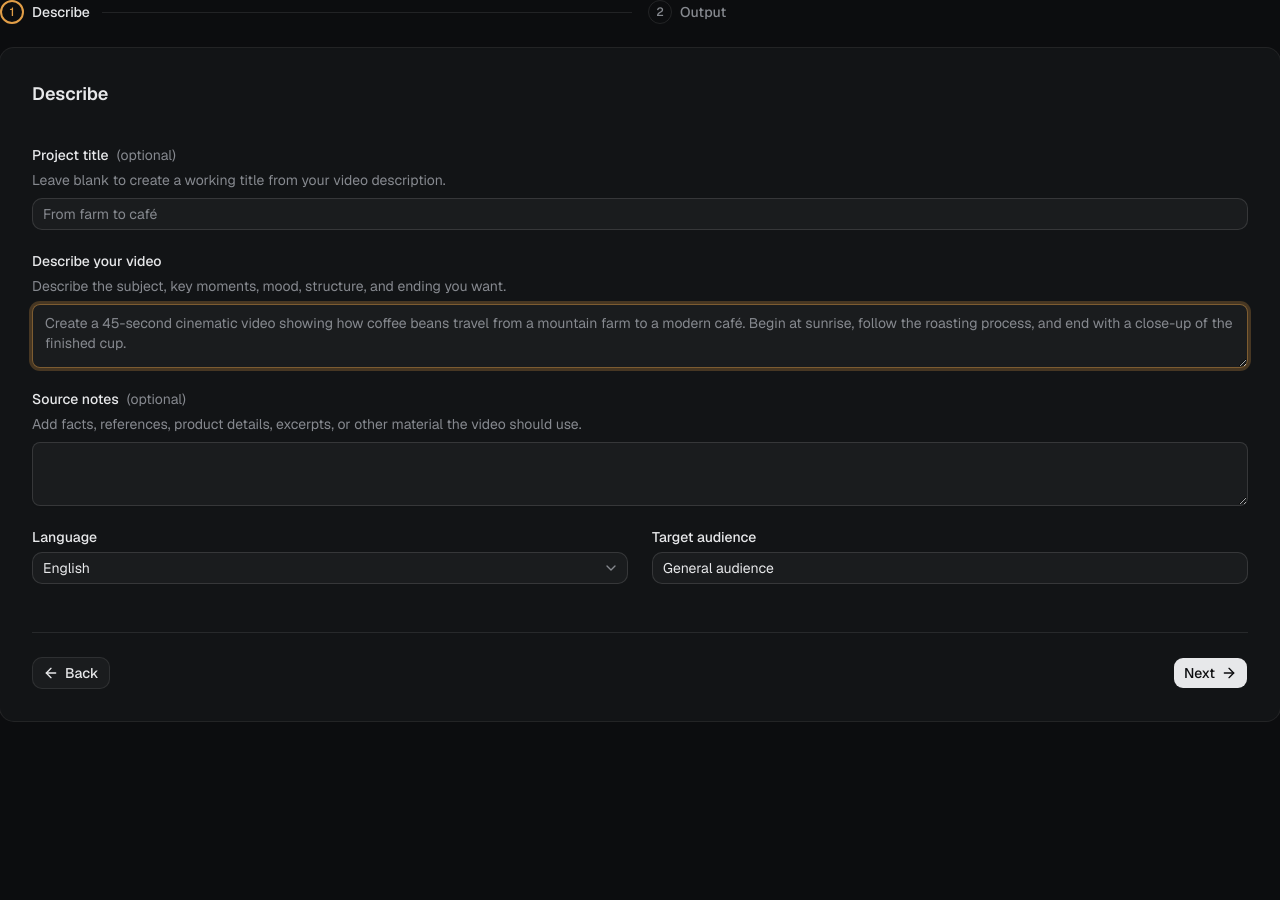
Test: CustomVideoWizard › preserves values after an API error and blocks duplicate submission
In the text box labelled "Describe your video": [640, 336] box 32,304 -> 1248,368, type "A ceramic process video"
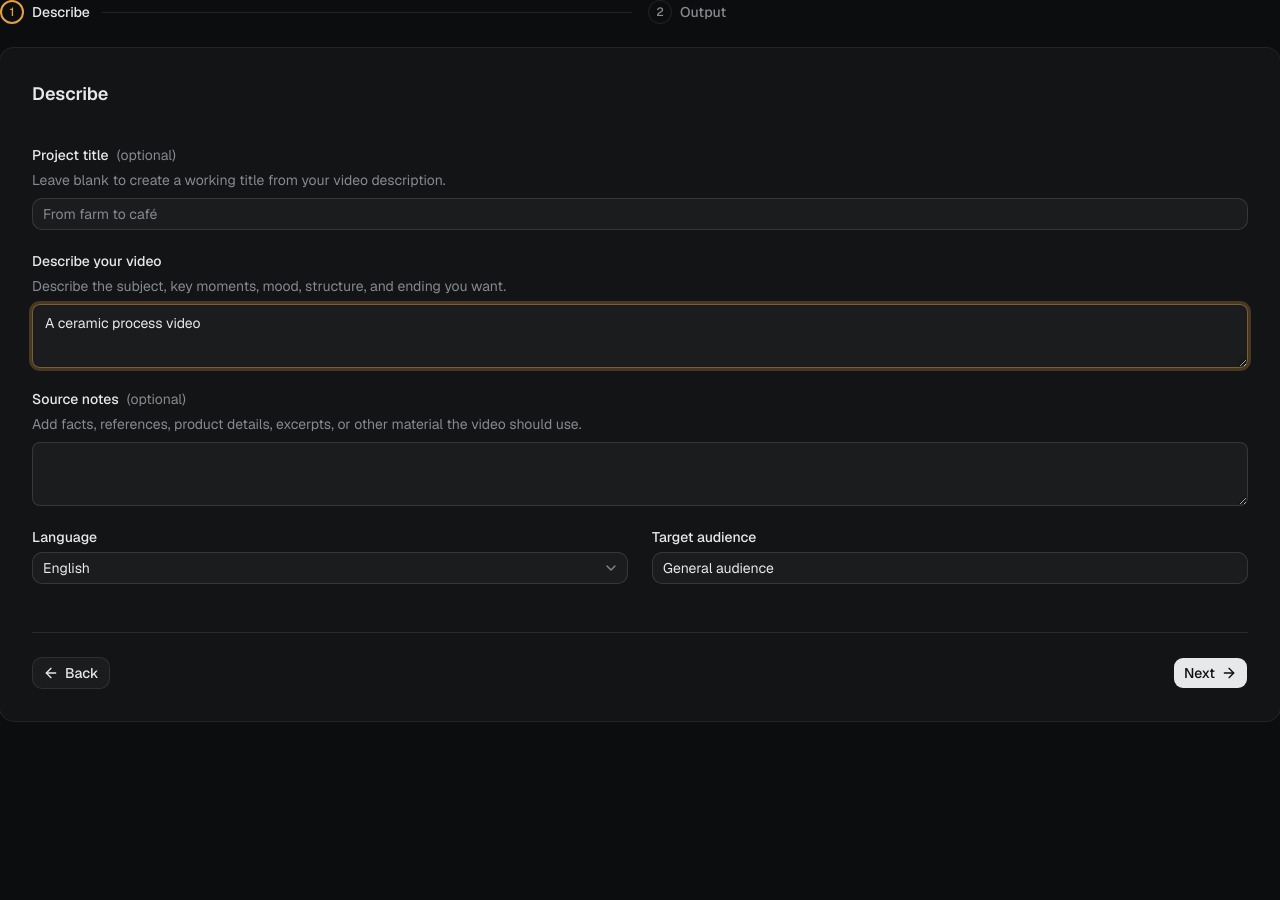
Click the button "Next": [1210, 673] box 1173,657 -> 1248,689
(page scrolled)
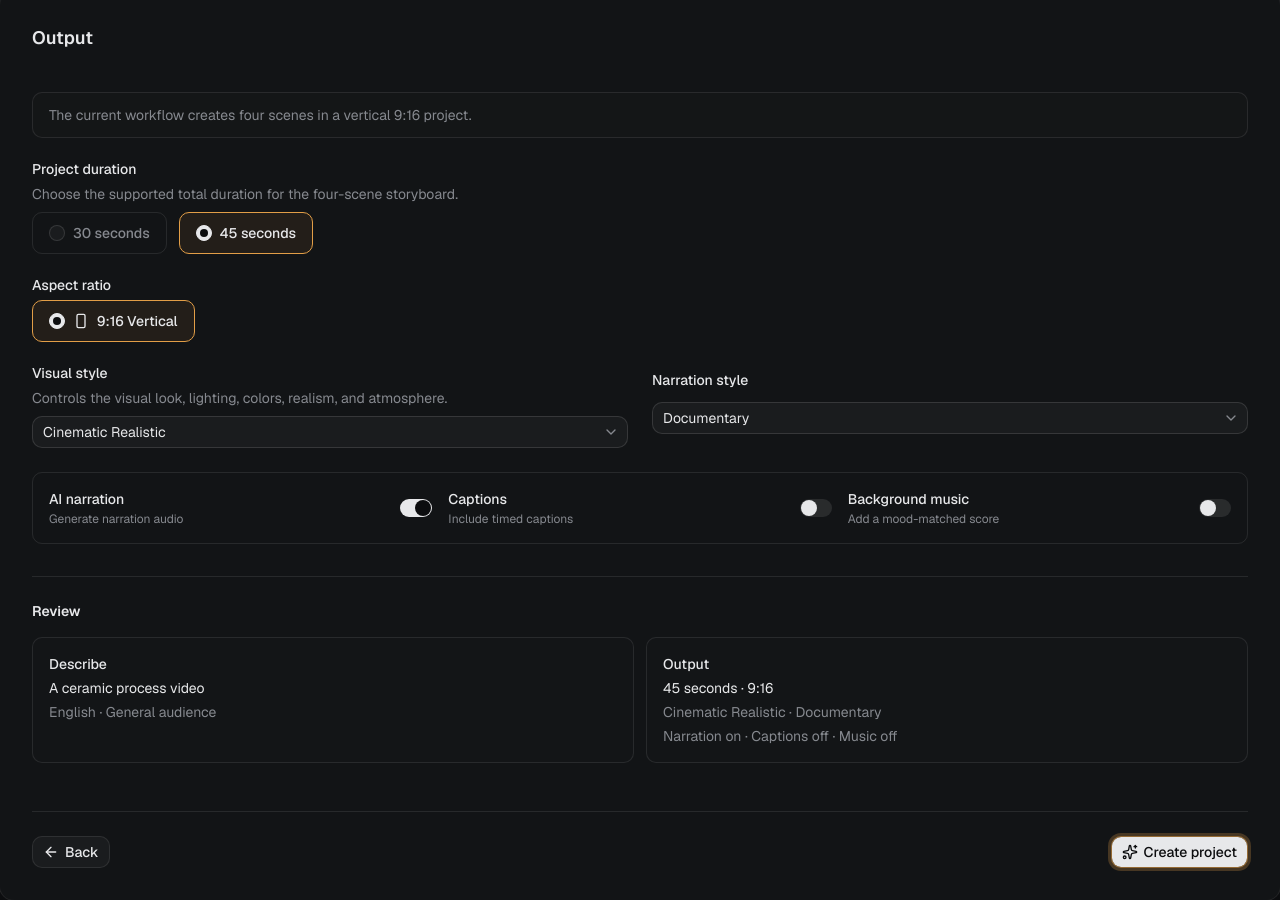
Double-click the button "Create project": [1179, 852] box 1111,836 -> 1248,868
(page scrolled)
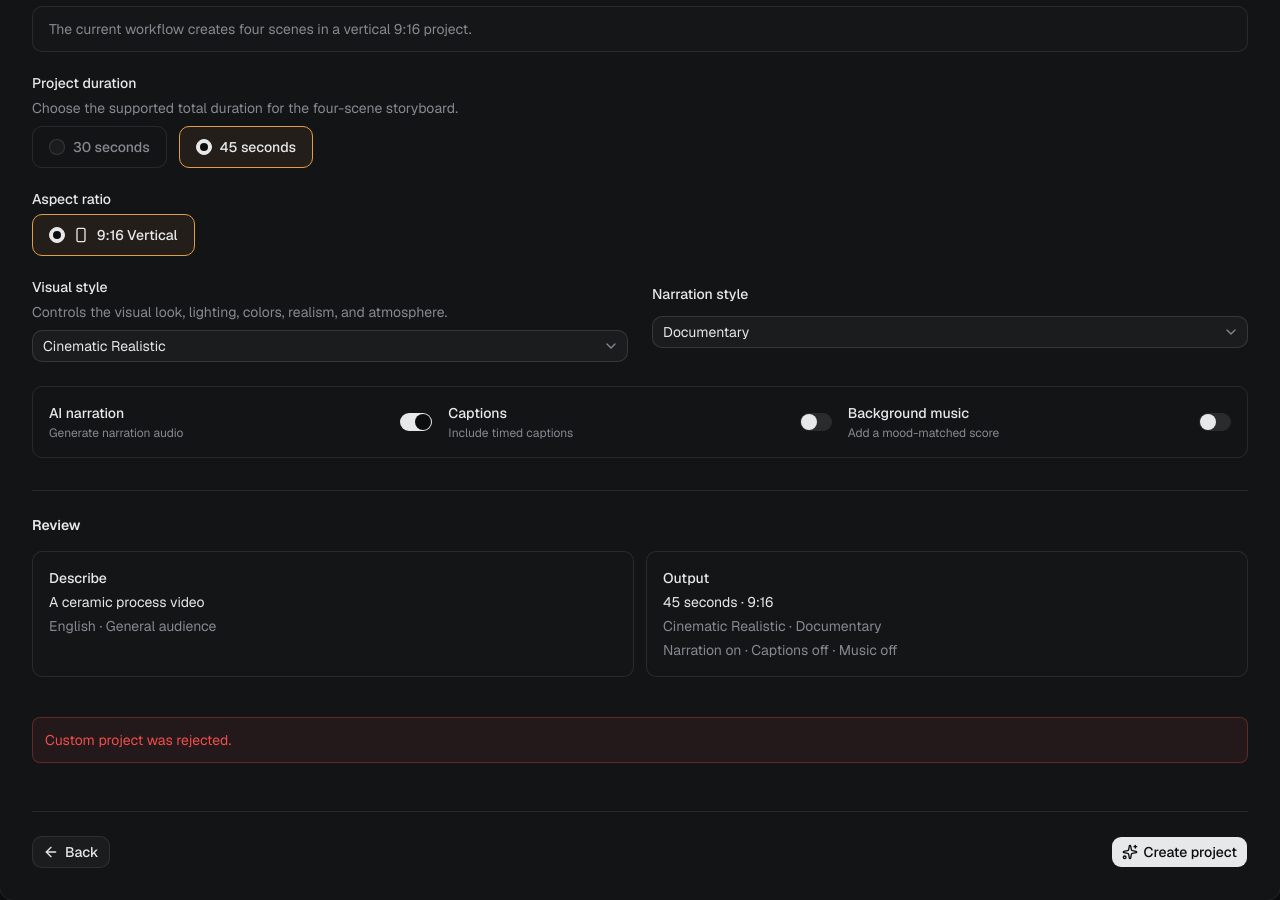
Expected: the message reads "Custom project was rejected.", 45,731 -> 231,749
Click the button "Back": [71, 852] box 32,836 -> 110,868
(page scrolled)
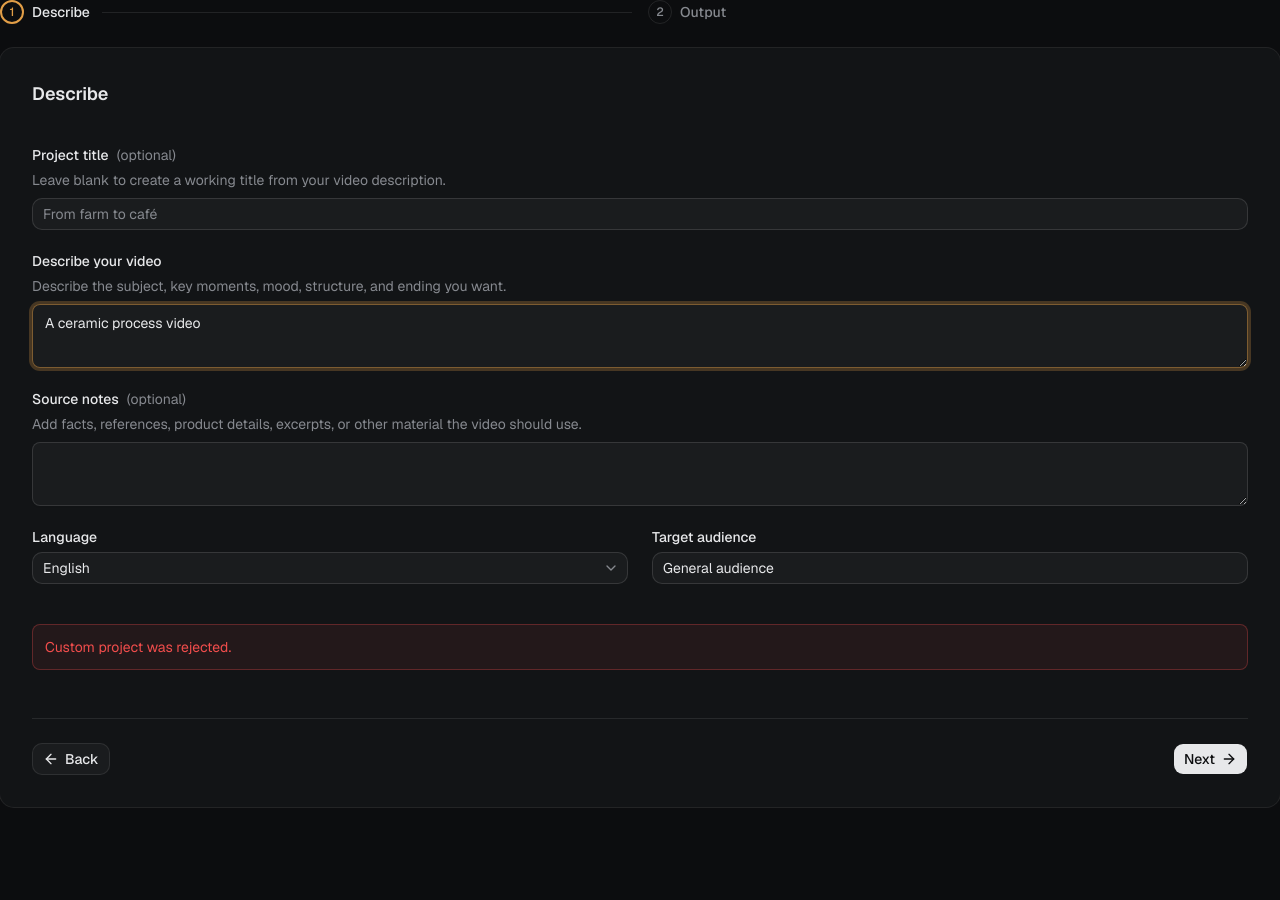
Expected: the text box labelled "Describe your video" holds "A ceramic process video", 32,304 -> 1248,368
